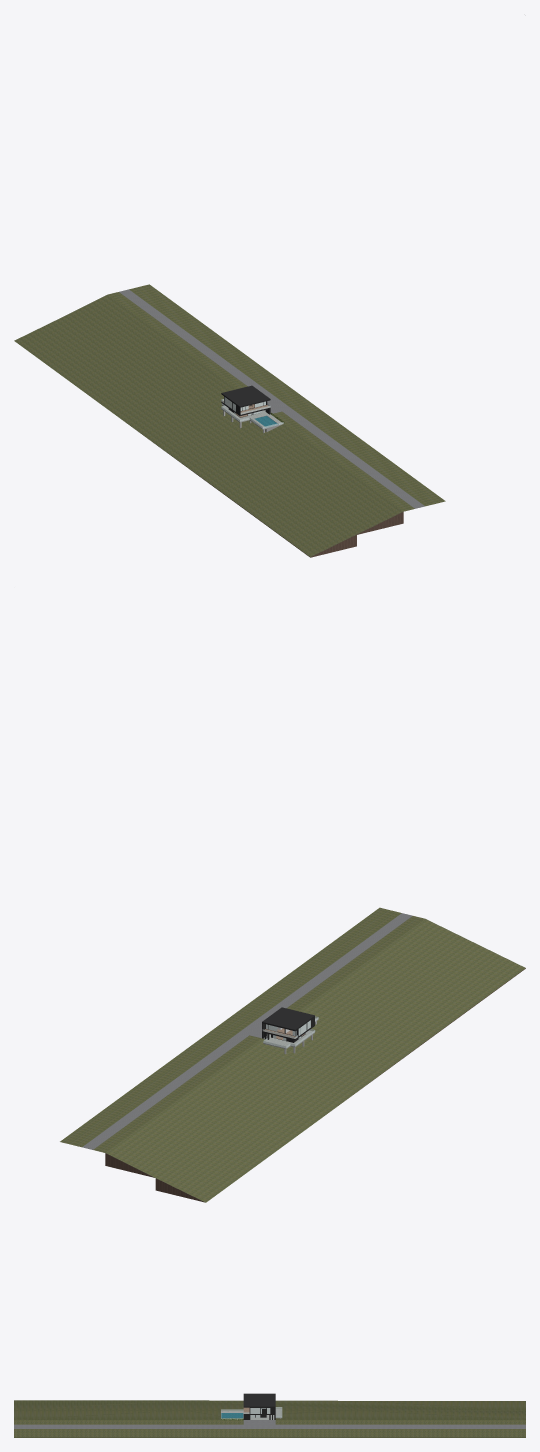
The picture shows the model from 3 angles, top to bottom: view 1: azimuth 30°, elevation 25°; view 2: azimuth 150°, elevation 25°; view 3: azimuth 270°, elevation 25°; orthographic projection. The views are drawn at different scales.
Parts seen in each view (by area): view 1: Slab_-_003.005, Mesh_-_001.003, Mesh_-_001.004, Mesh_-_001.005, Mesh_-_001.001, Mesh_-_001.002, Mesh_-_001, Slab_-_003.002, Slab_-_003.003, Slab_-_003.004, Slab_-_002.010; view 2: Slab_-_003.005, Mesh_-_001.002, Mesh_-_001.001, Mesh_-_001.005, Mesh_-_001.003, Mesh_-_001.004, Mesh_-_001, Slab_-_003.002, Slab_-_003.004, Slab_-_003.003, Slab_-_002.010; view 3: Slab_-_003.005, Slab_-_003.002, Mesh_-_001.003, Mesh_-_001.001, Mesh_-_001.002, Mesh_-_001.004, Mesh_-_001.005, Slab_-_003.004, Slab_-_003.003, Mesh_-_001, Slab_-_002.010.
Boxes of the visible parts, box(x1,y1,x2,y2) form: Slab_-_003.005: box(129, 284, 445, 506); Mesh_-_001.003: box(211, 462, 356, 557); Mesh_-_001.004: box(258, 439, 403, 534); Mesh_-_001.005: box(113, 390, 257, 484); Mesh_-_001.001: box(14, 318, 158, 412); Mesh_-_001.002: box(61, 295, 205, 389); Mesh_-_001: box(159, 367, 304, 461); Slab_-_003.002: box(119, 289, 424, 508); Slab_-_003.003: box(272, 411, 414, 511); Slab_-_003.004: box(107, 292, 247, 389); Slab_-_002.010: box(221, 385, 270, 407); Slab_-_003.005: box(60, 907, 401, 1147); Mesh_-_001.002: box(105, 1075, 261, 1177); Mesh_-_001.001: box(155, 1099, 312, 1202); Mesh_-_001.005: box(262, 1021, 419, 1124); Mesh_-_001.003: box(369, 943, 525, 1046); Mesh_-_001.004: box(319, 919, 475, 1021); Mesh_-_001: box(212, 997, 368, 1099); Slab_-_003.002: box(82, 913, 412, 1149); Slab_-_003.004: box(93, 1035, 261, 1152); Slab_-_003.003: box(287, 916, 424, 1011); Slab_-_002.010: box(262, 1007, 314, 1031); Slab_-_003.005: box(14, 1429, 525, 1437); Slab_-_003.002: box(14, 1420, 525, 1428); Mesh_-_001.003: box(14, 1400, 184, 1410); Mesh_-_001.001: box(355, 1401, 525, 1410); Mesh_-_001.002: box(355, 1410, 525, 1419); Mesh_-_001.004: box(14, 1410, 184, 1419); Mesh_-_001.005: box(184, 1400, 355, 1410); Slab_-_003.004: box(275, 1420, 525, 1424); Slab_-_003.003: box(14, 1420, 243, 1424); Mesh_-_001: box(184, 1410, 355, 1419); Slab_-_002.010: box(243, 1393, 275, 1407).
Bounding box in the file's own units: 228 × 231 × 341.
Materials: 33 (20 with a texture image).
